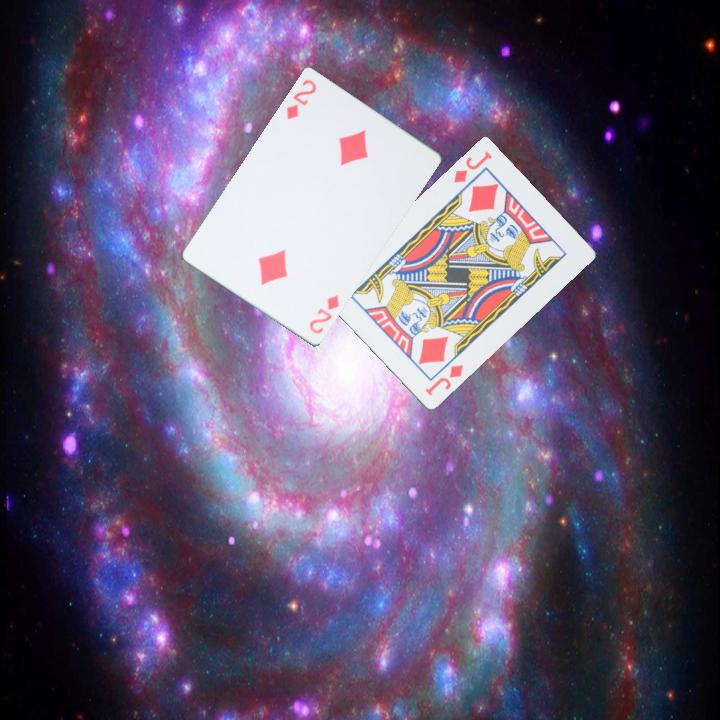2d: (282, 75, 319, 122), (305, 290, 342, 336)
Jd: (449, 147, 494, 185), (421, 360, 465, 398)
